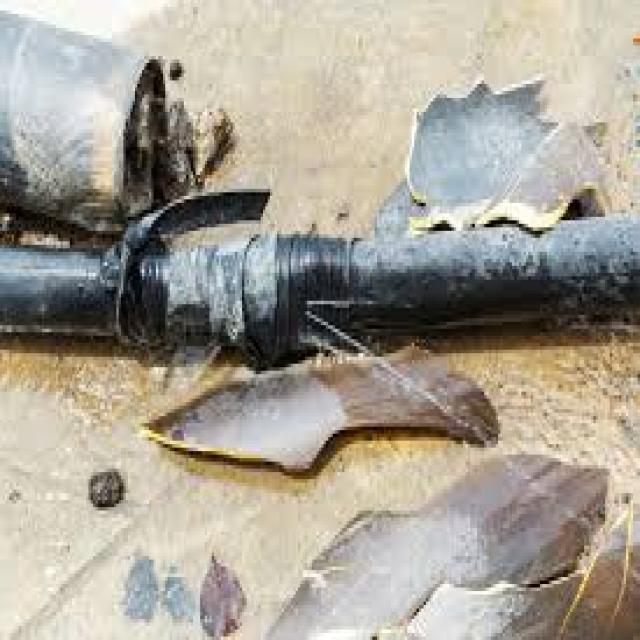pipe burst: (291, 298, 640, 587)
